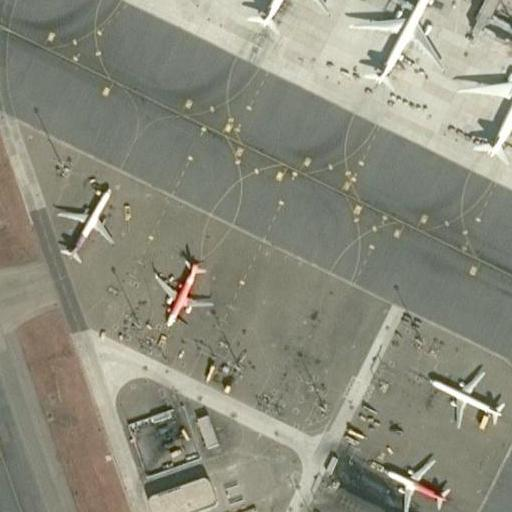Aircraft: (339, 0, 449, 93), (416, 361, 510, 434), (459, 26, 512, 153), (45, 182, 122, 261), (149, 248, 216, 327), (368, 456, 455, 512), (227, 0, 329, 37)
